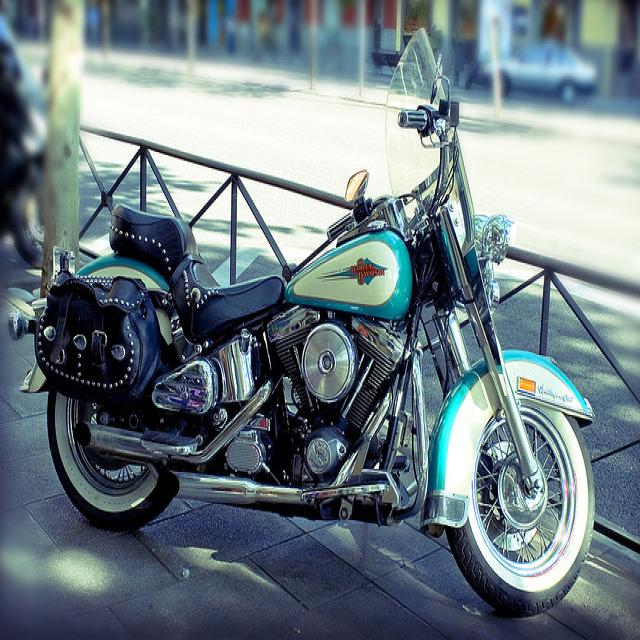motor: (2, 19, 600, 626)
